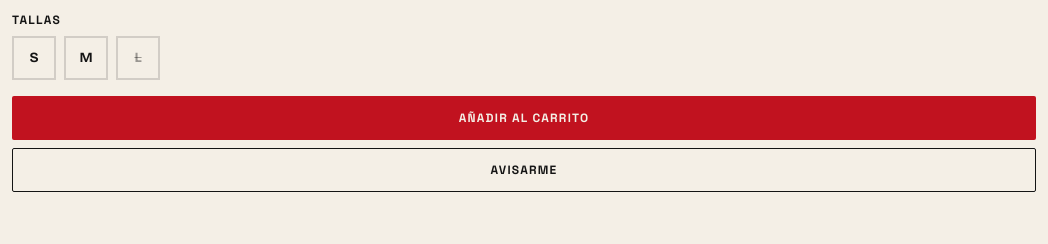
AddToCartForm › surfaces the error returned by the server action
The image size is (1048, 244).
Step 1. Click the button "S" → (34, 58), box [12, 36, 56, 80]
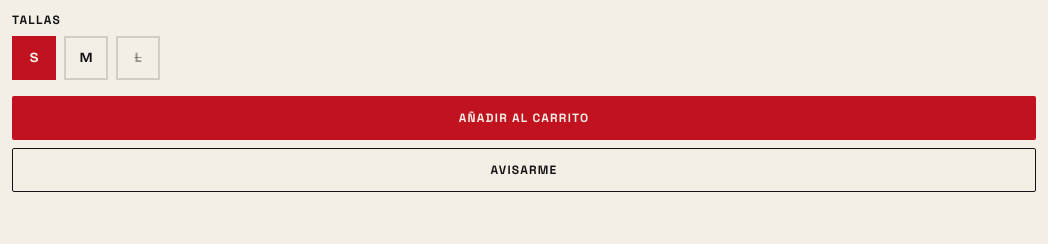
Step 2. Click the button "Añadir al carrito" → (524, 118), box [12, 96, 1036, 140]
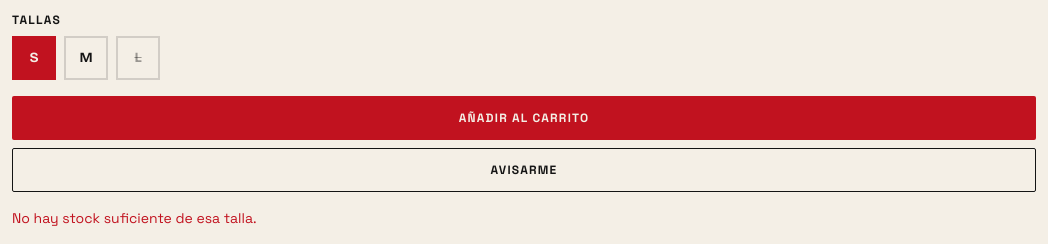
Expected: the text "No hay stock suficiente de esa talla." is shown, [12, 209, 257, 227]
